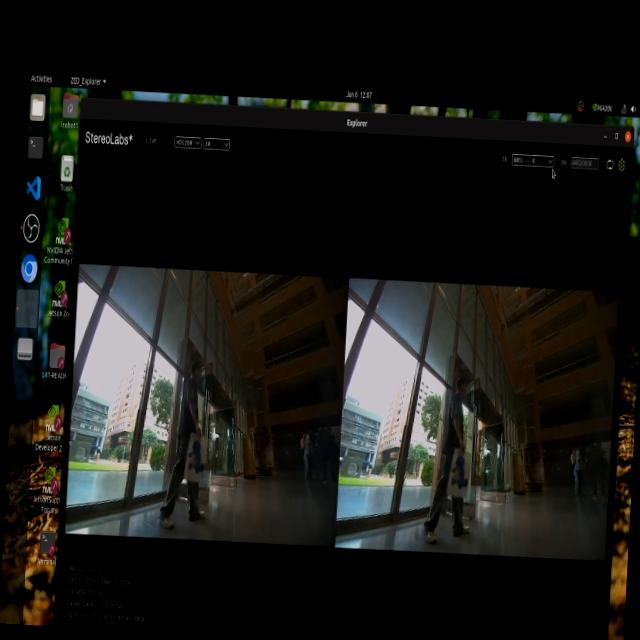blue: (188, 432, 216, 488), (452, 458, 469, 492)
